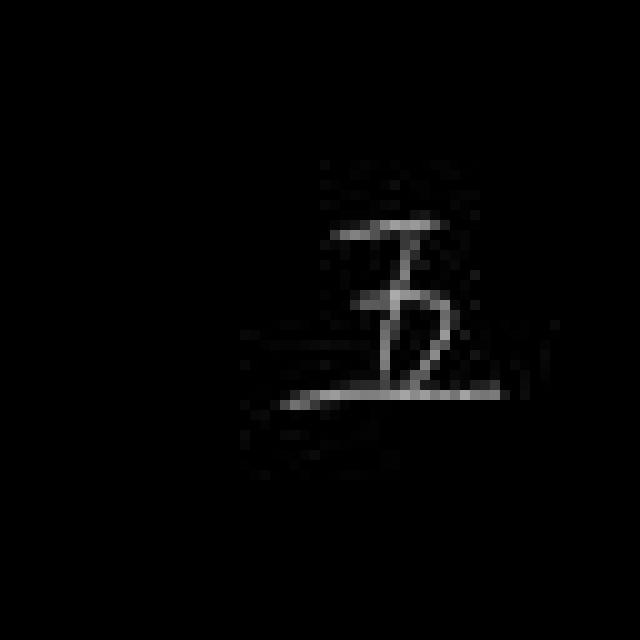5 -five-: (274, 208, 512, 419)
